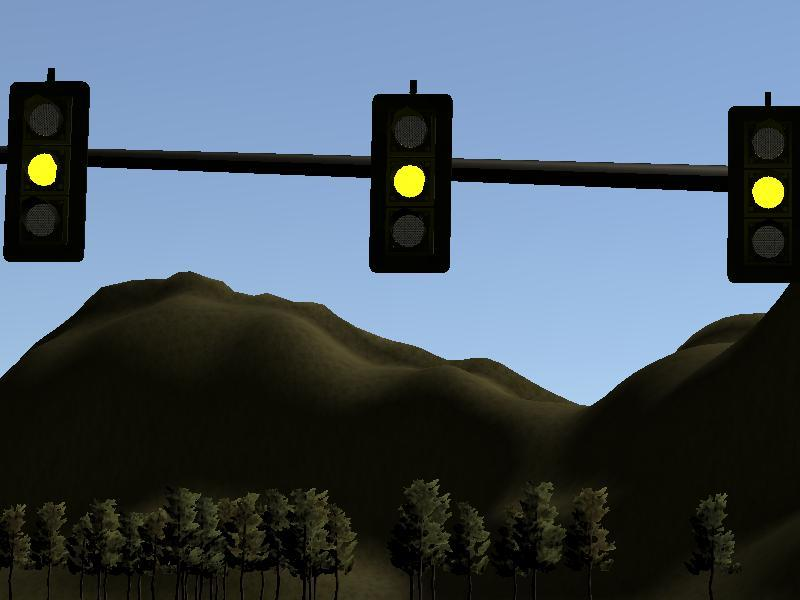Yellow: (6, 80, 88, 263), (370, 94, 452, 274), (728, 106, 800, 283)
